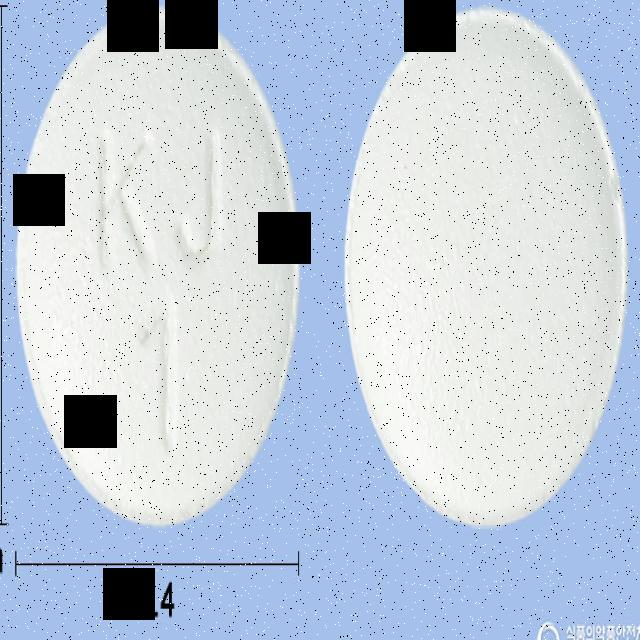Levocacin: (15, 5, 301, 527)
